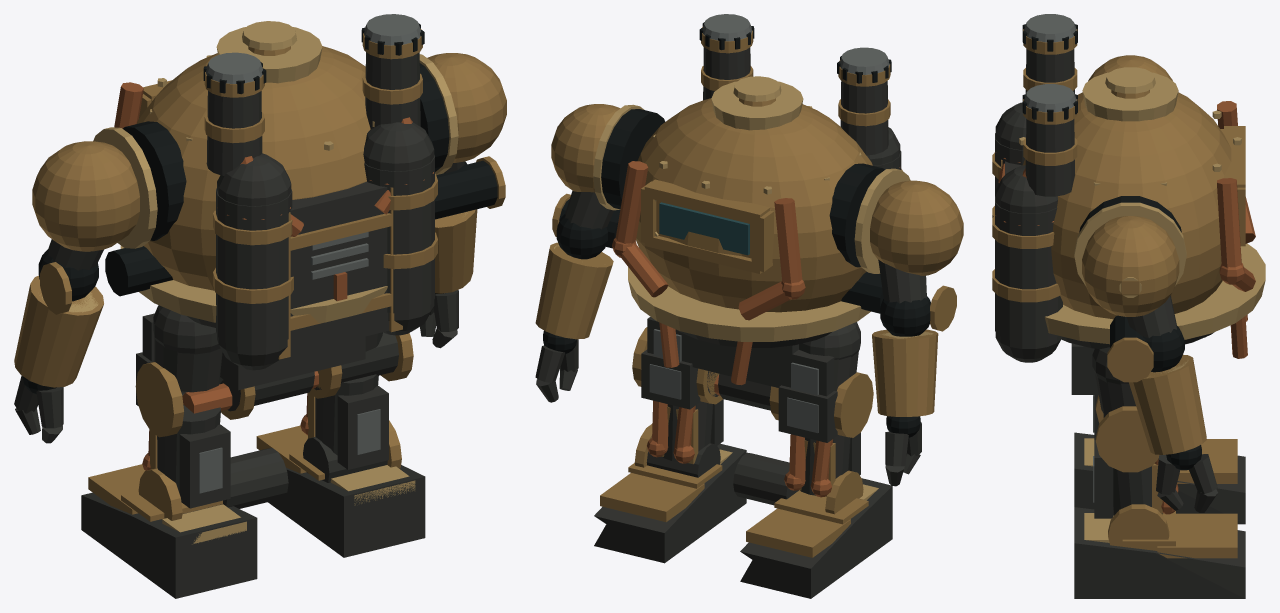
3 renders of one model, left to right at view 1: azimuth 30°, elevation 25°; view 2: azimuth 150°, elevation 25°; view 3: azimuth 270°, elevation 25°, orthographic. The views are drawn at different scales.
Bounding box in the file's own units: 3.6 × 4 × 2.05.
